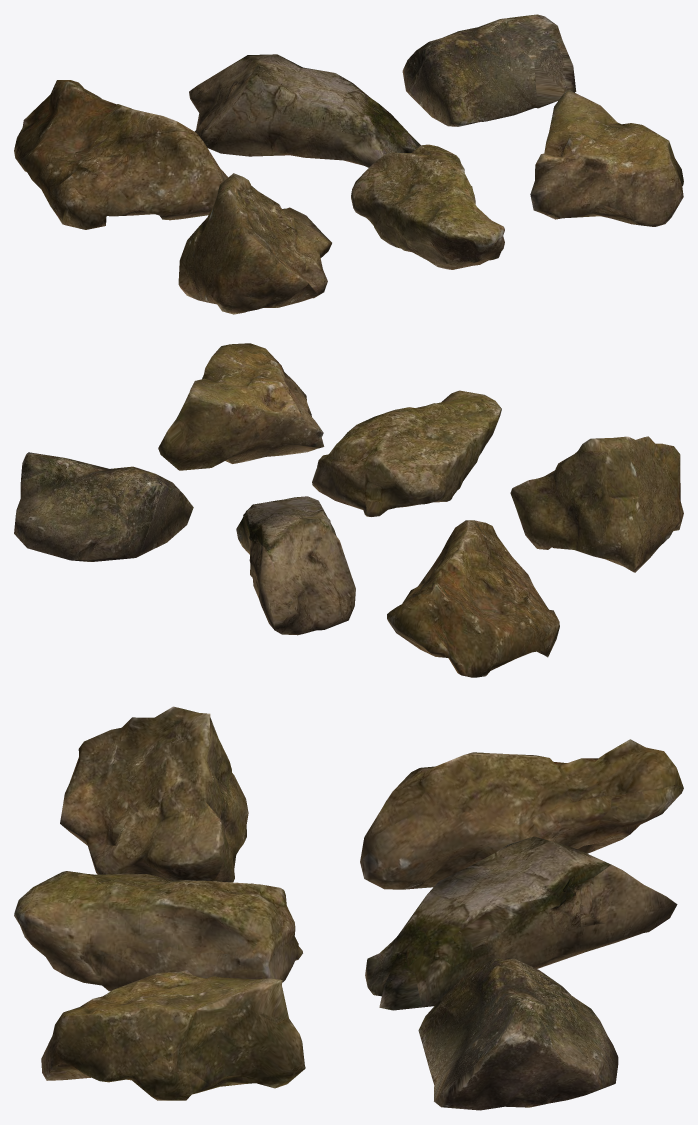
Rendered from rock_moss_set_01.glb.
3 views of the same model, one above another, from view 1: azimuth 30°, elevation 25°; view 2: azimuth 150°, elevation 25°; view 3: azimuth 270°, elevation 25° (orthographic). The views are drawn at different scales.
Visible parts, largest first — view 1: rock_moss_set_01_rock01, rock_moss_set_01_rock02, rock_moss_set_01_rock06, rock_moss_set_01_rock04, rock_moss_set_01_rock03, rock_moss_set_01_rock05; view 2: rock_moss_set_01_rock04, rock_moss_set_01_rock01, rock_moss_set_01_rock05, rock_moss_set_01_rock03, rock_moss_set_01_rock06, rock_moss_set_01_rock02; view 3: rock_moss_set_01_rock01, rock_moss_set_01_rock02, rock_moss_set_01_rock05, rock_moss_set_01_rock06, rock_moss_set_01_rock04, rock_moss_set_01_rock03.
Part boxes in pixels (x1,y1,x2,y2): rock_moss_set_01_rock01: (14,80,227,229); rock_moss_set_01_rock02: (189,54,420,167); rock_moss_set_01_rock06: (530,90,683,226); rock_moss_set_01_rock04: (178,173,331,314); rock_moss_set_01_rock03: (402,14,576,126); rock_moss_set_01_rock05: (351,144,504,269); rock_moss_set_01_rock04: (510,436,683,572); rock_moss_set_01_rock01: (387,520,559,677); rock_moss_set_01_rock05: (312,390,501,516); rock_moss_set_01_rock03: (14,452,193,561); rock_moss_set_01_rock06: (158,343,324,470); rock_moss_set_01_rock02: (236,496,355,635); rock_moss_set_01_rock01: (360,739,683,889); rock_moss_set_01_rock02: (365,836,677,1010); rock_moss_set_01_rock05: (14,871,302,991); rock_moss_set_01_rock06: (41,970,305,1100); rock_moss_set_01_rock04: (60,706,248,882); rock_moss_set_01_rock03: (418,958,618,1110).
Bounding box in the file's own units: 8 × 1.76 × 6.94.
1 material, 1 textured.
